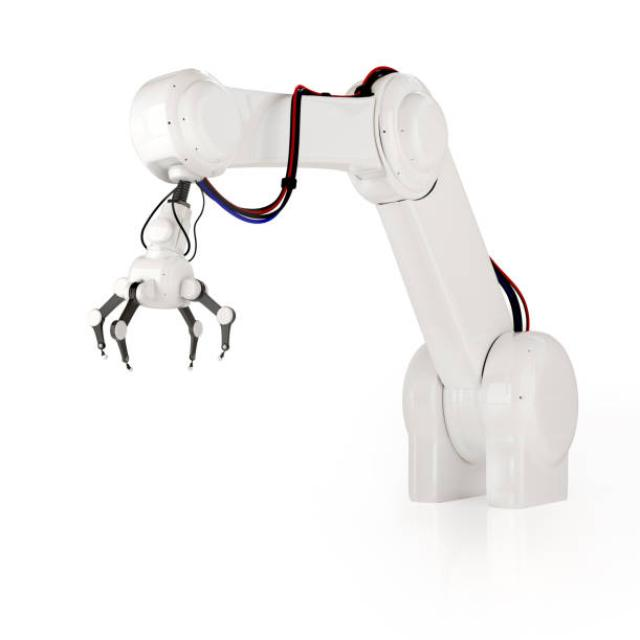Robotic-arm: (81, 42, 596, 521)
